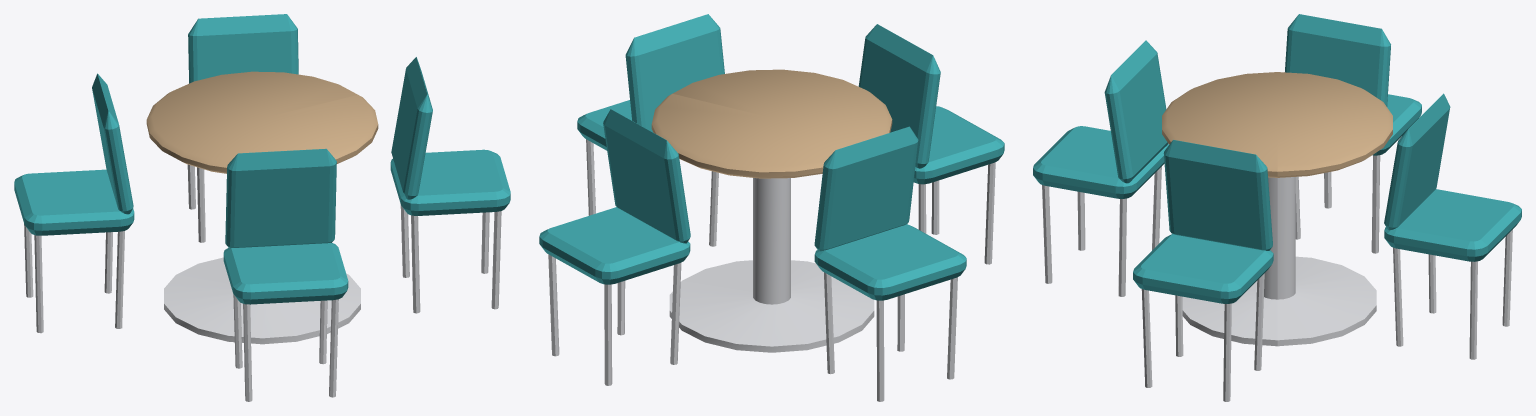
Rendered from motorway-services-and-truck-park-table-and-chair-clust-f2e8889c__35935.glb.
3 renders of one model, left to right at view 1: azimuth 30°, elevation 25°; view 2: azimuth 150°, elevation 25°; view 3: azimuth 270°, elevation 25°, orthographic. The views are drawn at different scales.
Parts seen in each view (by area): view 1: table-and-chair-cluster; view 2: table-and-chair-cluster; view 3: table-and-chair-cluster.
Boxes of the visible parts, x1,y1,x2,y2 form: table-and-chair-cluster: [14, 14, 510, 401]; table-and-chair-cluster: [539, 14, 1004, 401]; table-and-chair-cluster: [1033, 14, 1521, 401].
Size of the model in its own units: 1.85 by 0.915 by 1.85.
